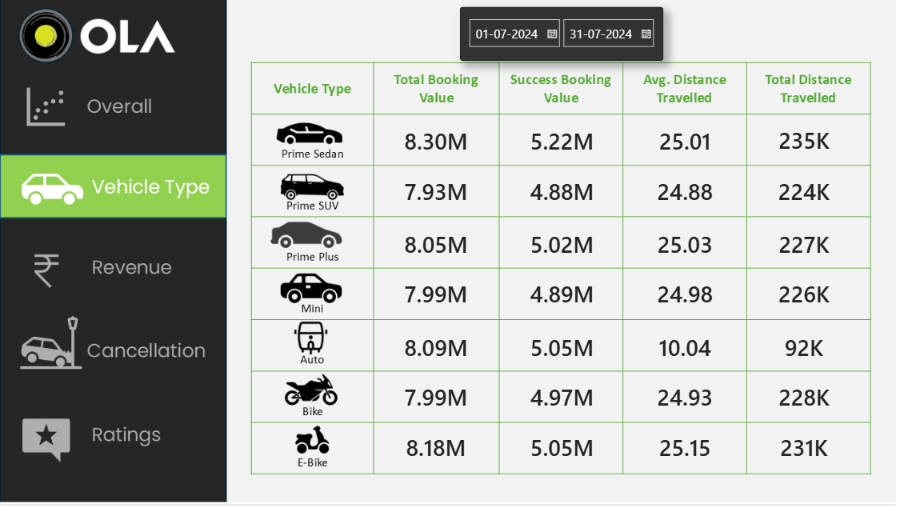

Layout of this report page (visuals, bound fields, positions):
{"tool":"powerbi","page":{"name":"Vehicle Type","canvas":[1280,720],"ordinal":1},"visuals":[{"type":"actionButton","box":[0,107.4,324.5,91.7],"z":0},{"type":"actionButton","box":[0,448.8,324.5,91.7],"z":1000},{"type":"actionButton","box":[0,336.6,324.5,91.7],"z":2000},{"type":"actionButton","box":[1.2,575.5,324.5,91.7],"z":3000},{"type":"cardVisual","fields":{"Data":["Sum(July.Booking_Value)"]},"box":[542.9,164.3,160,71.4],"z":4000},{"type":"cardVisual","fields":{"Data":["Sum(July.Booking_Value)"]},"box":[542.9,235.7,160,71.4],"z":5000},{"type":"cardVisual","fields":{"Data":["Sum(July.Booking_Value)"]},"box":[542.9,311.4,160,71.4],"z":6000},{"type":"cardVisual","fields":{"Data":["Sum(July.Booking_Value)"]},"box":[542.9,382.9,160,71.4],"z":7000},{"type":"cardVisual","fields":{"Data":["Sum(July.Booking_Value)"]},"box":[542.9,458.6,160,71.4],"z":8000},{"type":"cardVisual","fields":{"Data":["Sum(July.Booking_Value)"]},"box":[542.9,530,160,71.4],"z":9000},{"type":"cardVisual","fields":{"Data":["Sum(July.Booking_Value)"]},"box":[542.9,601.4,160,71.4],"z":10000},{"type":"cardVisual","fields":{"Data":["Sum(July.Booking_Value)"]},"box":[722.9,164.3,160,71.4],"z":11000},{"type":"cardVisual","fields":{"Data":["Sum(July.Booking_Value)"]},"box":[722.9,235.7,160,71.4],"z":12000},{"type":"cardVisual","fields":{"Data":["Sum(July.Booking_Value)"]},"box":[722.9,311.4,160,71.4],"z":13000},{"type":"cardVisual","fields":{"Data":["Sum(July.Booking_Value)"]},"box":[722.9,382.9,160,71.4],"z":14000},{"type":"cardVisual","fields":{"Data":["Sum(July.Booking_Value)"]},"box":[722.9,458.6,160,71.4],"z":15000},{"type":"cardVisual","fields":{"Data":["Sum(July.Booking_Value)"]},"box":[722.9,530,160,71.4],"z":16000},{"type":"cardVisual","fields":{"Data":["Sum(July.Booking_Value)"]},"box":[722.9,601.4,160,71.4],"z":17000},{"type":"cardVisual","fields":{"Data":["Avg(July.Ride_Distance)"]},"box":[898.6,164.3,160,71.4],"z":18000},{"type":"cardVisual","fields":{"Data":["Sum(July.Ride_Distance)"]},"box":[1058.6,162.9,180,71.4],"z":19000},{"type":"cardVisual","fields":{"Data":["Sum(July.Ride_Distance)"]},"box":[1058.6,235.7,180,71.4],"z":20000},{"type":"cardVisual","fields":{"Data":["Sum(July.Ride_Distance)"]},"box":[1058.6,311.4,180,71.4],"z":21000},{"type":"cardVisual","fields":{"Data":["Sum(July.Ride_Distance)"]},"box":[1058.6,382.9,180,71.4],"z":22000},{"type":"cardVisual","fields":{"Data":["Sum(July.Ride_Distance)"]},"box":[1058.6,458.6,180,71.4],"z":23000},{"type":"cardVisual","fields":{"Data":["Sum(July.Ride_Distance)"]},"box":[1058.6,530,180,71.4],"z":24000},{"type":"cardVisual","fields":{"Data":["Sum(July.Ride_Distance)"]},"box":[1058.6,601.4,180,71.4],"z":25000},{"type":"cardVisual","fields":{"Data":["Avg(July.Ride_Distance)"]},"box":[898.6,235.7,160,71.4],"z":26000},{"type":"cardVisual","fields":{"Data":["Avg(July.Ride_Distance)"]},"box":[898.6,311.4,160,71.4],"z":27000},{"type":"cardVisual","fields":{"Data":["Avg(July.Ride_Distance)"]},"box":[898.6,382.9,160,71.4],"z":28000},{"type":"cardVisual","fields":{"Data":["Avg(July.Ride_Distance)"]},"box":[898.6,458.6,160,71.4],"z":29000},{"type":"cardVisual","fields":{"Data":["Avg(July.Ride_Distance)"]},"box":[898.6,530,160,71.4],"z":30000},{"type":"cardVisual","fields":{"Data":["Avg(July.Ride_Distance)"]},"box":[898.6,601.4,160,71.4],"z":31000},{"type":"slicer","title":"Date","fields":{"Values":["July.Date"]},"box":[657.1,10,290,77.1],"z":32000}]}

Visuals, with their boxes in screenshot pixels (x1, y1, x2, y2), scaled from the page's 1280x720 canvas onto the 897x506 screenshot:
actionButton: [left=0, top=75, right=227, bottom=140]
actionButton: [left=0, top=315, right=227, bottom=380]
actionButton: [left=0, top=237, right=227, bottom=301]
actionButton: [left=1, top=404, right=228, bottom=469]
cardVisual - Sum(July.Booking_Value): [left=380, top=115, right=493, bottom=166]
cardVisual - Sum(July.Booking_Value): [left=380, top=166, right=493, bottom=216]
cardVisual - Sum(July.Booking_Value): [left=380, top=219, right=493, bottom=269]
cardVisual - Sum(July.Booking_Value): [left=380, top=269, right=493, bottom=319]
cardVisual - Sum(July.Booking_Value): [left=380, top=322, right=493, bottom=372]
cardVisual - Sum(July.Booking_Value): [left=380, top=372, right=493, bottom=423]
cardVisual - Sum(July.Booking_Value): [left=380, top=423, right=493, bottom=473]
cardVisual - Sum(July.Booking_Value): [left=507, top=115, right=619, bottom=166]
cardVisual - Sum(July.Booking_Value): [left=507, top=166, right=619, bottom=216]
cardVisual - Sum(July.Booking_Value): [left=507, top=219, right=619, bottom=269]
cardVisual - Sum(July.Booking_Value): [left=507, top=269, right=619, bottom=319]
cardVisual - Sum(July.Booking_Value): [left=507, top=322, right=619, bottom=372]
cardVisual - Sum(July.Booking_Value): [left=507, top=372, right=619, bottom=423]
cardVisual - Sum(July.Booking_Value): [left=507, top=423, right=619, bottom=473]
cardVisual - Avg(July.Ride_Distance): [left=630, top=115, right=742, bottom=166]
cardVisual - Sum(July.Ride_Distance): [left=742, top=114, right=868, bottom=165]
cardVisual - Sum(July.Ride_Distance): [left=742, top=166, right=868, bottom=216]
cardVisual - Sum(July.Ride_Distance): [left=742, top=219, right=868, bottom=269]
cardVisual - Sum(July.Ride_Distance): [left=742, top=269, right=868, bottom=319]
cardVisual - Sum(July.Ride_Distance): [left=742, top=322, right=868, bottom=372]
cardVisual - Sum(July.Ride_Distance): [left=742, top=372, right=868, bottom=423]
cardVisual - Sum(July.Ride_Distance): [left=742, top=423, right=868, bottom=473]
cardVisual - Avg(July.Ride_Distance): [left=630, top=166, right=742, bottom=216]
cardVisual - Avg(July.Ride_Distance): [left=630, top=219, right=742, bottom=269]
cardVisual - Avg(July.Ride_Distance): [left=630, top=269, right=742, bottom=319]
cardVisual - Avg(July.Ride_Distance): [left=630, top=322, right=742, bottom=372]
cardVisual - Avg(July.Ride_Distance): [left=630, top=372, right=742, bottom=423]
cardVisual - Avg(July.Ride_Distance): [left=630, top=423, right=742, bottom=473]
"Date" slicer: [left=460, top=7, right=664, bottom=61]
